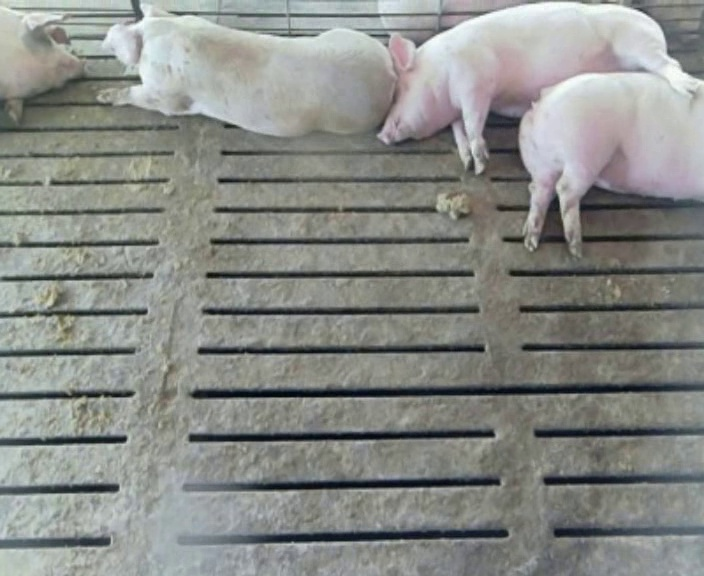pig: (378, 3, 698, 173), (97, 4, 396, 135), (519, 73, 703, 256)
